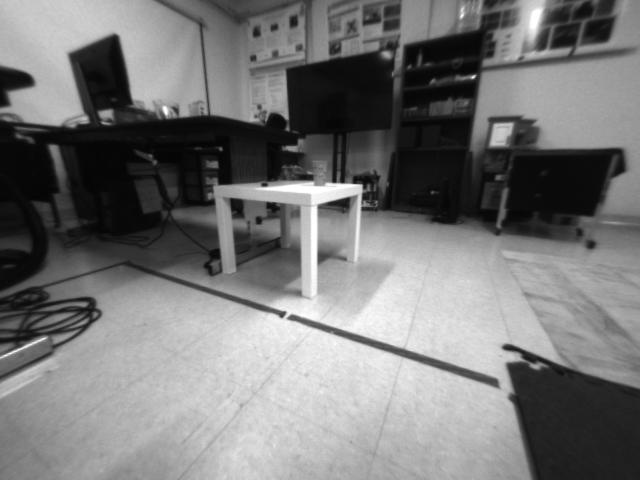coffee_cup: (310, 159, 328, 185)
